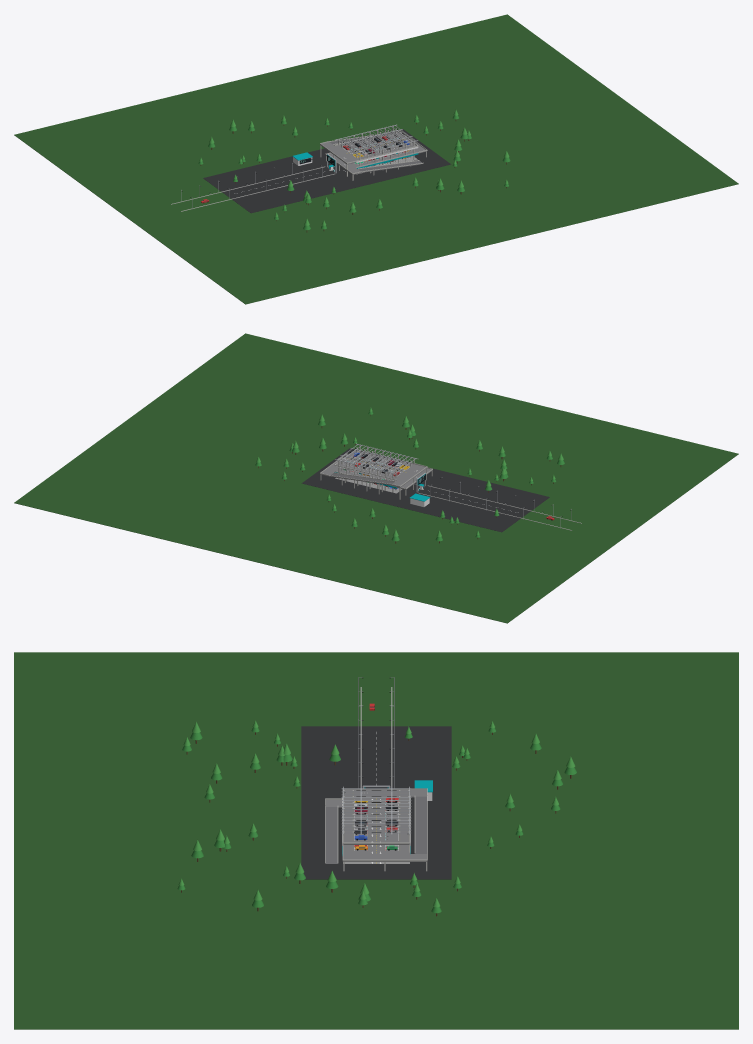
Rendered from smart_parking_system.fbx.
The picture shows the model from 3 angles, top to bottom: view 1: azimuth 30°, elevation 25°; view 2: azimuth 150°, elevation 25°; view 3: azimuth 270°, elevation 25°; orthographic projection. The views are drawn at different scales.
Visible parts, largest first — view 1: Grass, Paving, Slab_L2; view 2: Grass, Paving, Slab_L2; view 3: Grass, Paving, Slab_L2, Ramp_N, Ramp_S.
Boxes of the visible parts, x1,y1,x2,y2 form: Grass: (14,14,738,304); Paving: (203,129,450,213); Slab_L2: (335,131,416,160); Grass: (14,333,738,623); Paving: (302,448,549,532); Slab_L2: (336,450,417,479); Grass: (14,652,738,1029); Paving: (301,726,451,879); Slab_L2: (343,796,409,844); Ramp_N: (415,796,426,853); Ramp_S: (326,807,337,863).
Bounding box in the file's own units: 32000 × 1230 × 26000.
